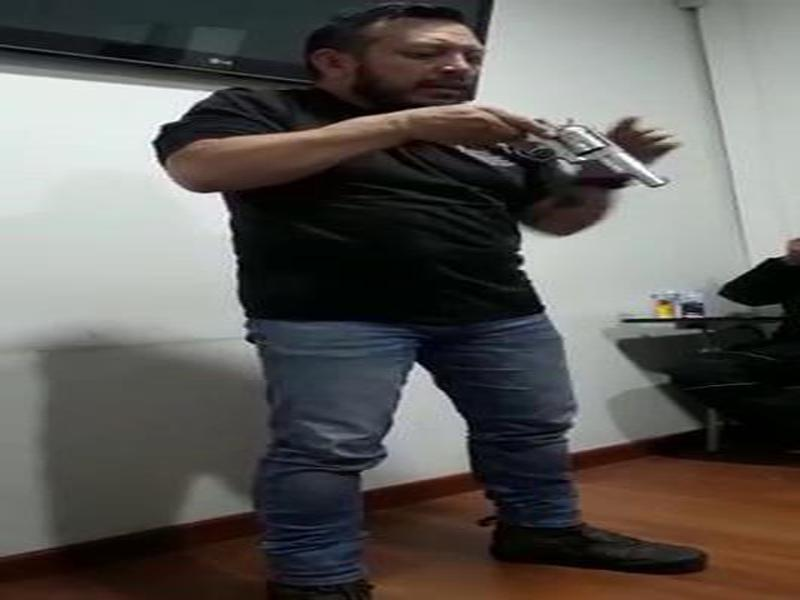Revolver: (491, 94, 666, 224)
